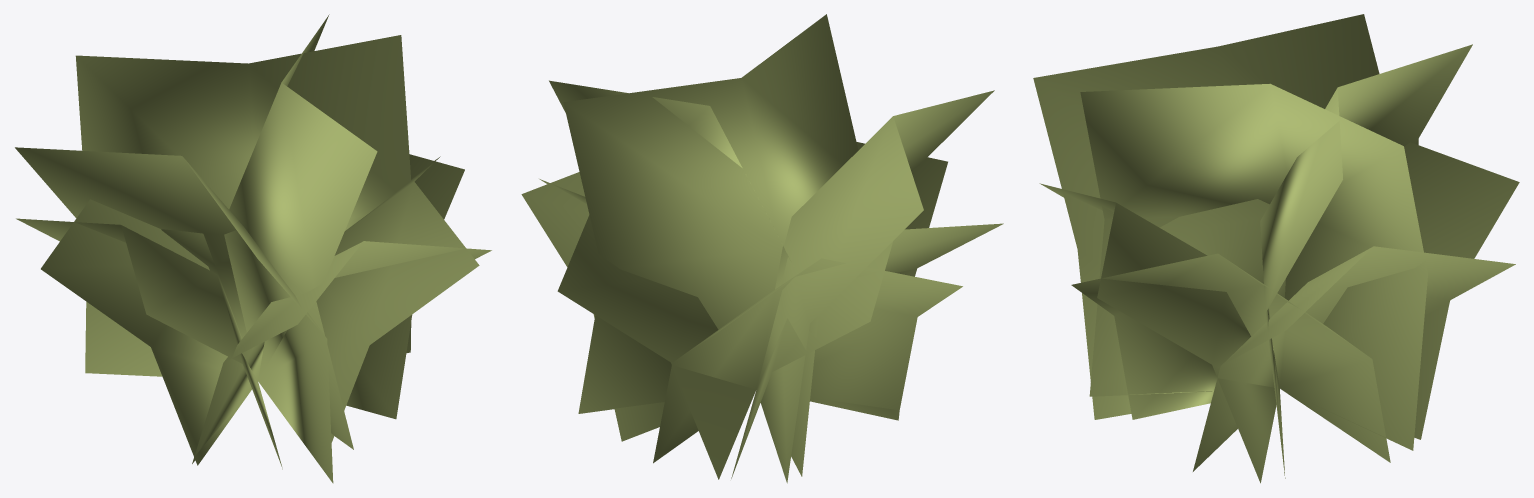
File: cmc_shortgrass.fbx
The picture shows the model from 3 angles, left to right: view 1: azimuth 30°, elevation 25°; view 2: azimuth 150°, elevation 25°; view 3: azimuth 270°, elevation 25°; orthographic projection. The views are drawn at different scales.
Visible parts, largest first — view 1: short_grass_LOD0; view 2: short_grass_LOD0; view 3: short_grass_LOD0.
Boxes of the visible parts, x1,y1,x2,y2 form: short_grass_LOD0: (15,14,491,483); short_grass_LOD0: (521,14,1003,483); short_grass_LOD0: (1033,14,1519,483).
Size of what is drawn, in the model's own units: 0.5642 by 0.4269 by 0.5341.
